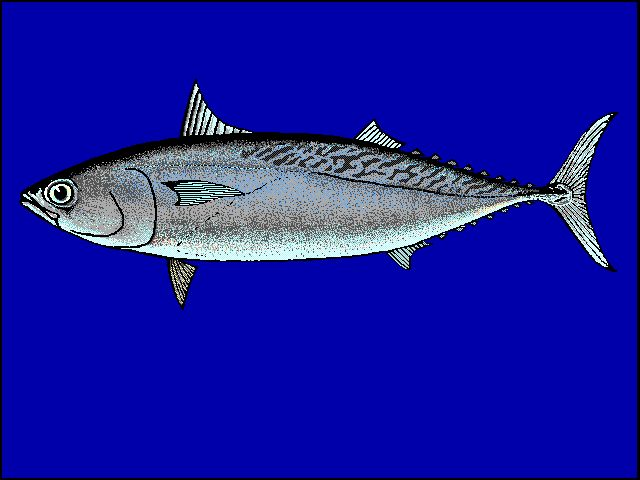fish: (17, 80, 618, 310)
